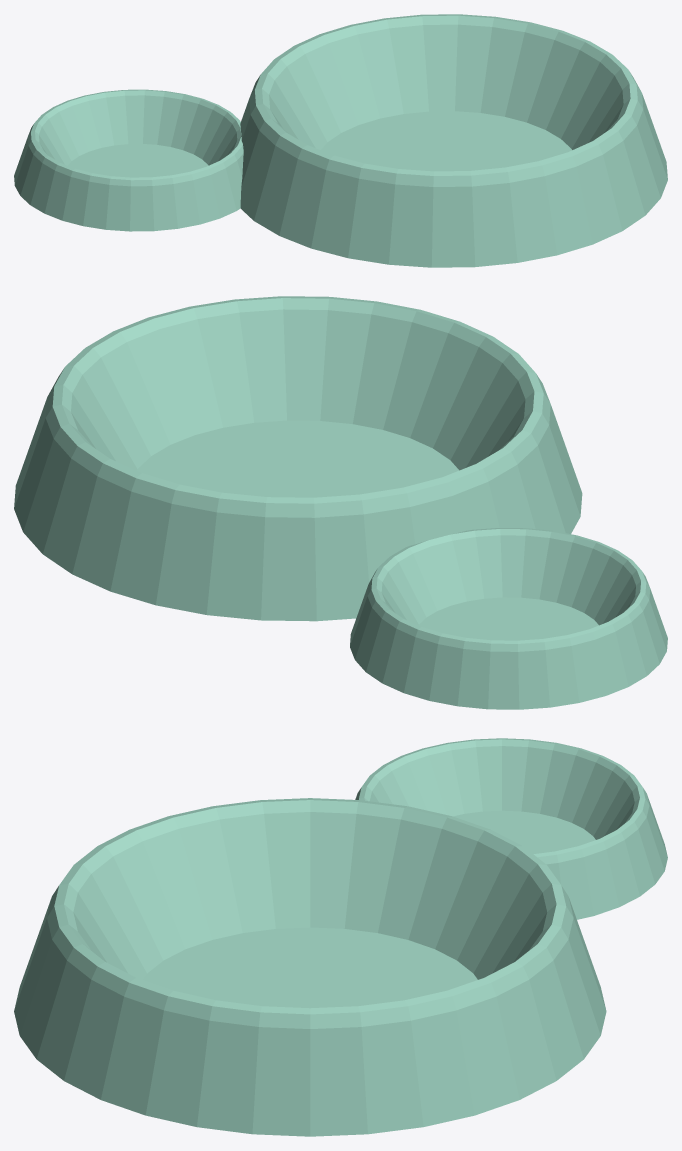
File: SM_EN_Geyser_01.fbx
3 renders of one model, top to bottom at view 1: azimuth 30°, elevation 25°; view 2: azimuth 150°, elevation 25°; view 3: azimuth 270°, elevation 25°, orthographic. The views are drawn at different scales.
Visible parts, largest first — view 1: SM_EN_Geyser_01; view 2: SM_EN_Geyser_01; view 3: SM_EN_Geyser_01.
Part boxes in pixels (x1,y1,x2,y2): SM_EN_Geyser_01: (14,14,667,267); SM_EN_Geyser_01: (14,296,667,709); SM_EN_Geyser_01: (14,738,667,1136).
Bounding box in the file's own units: 139 × 110 × 20.
